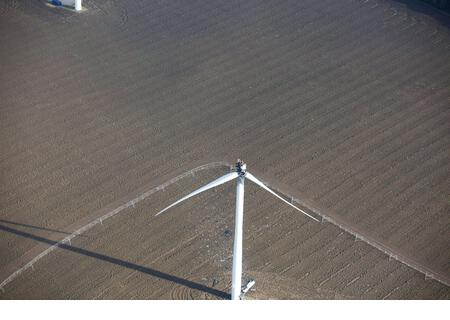faulty: (210, 152, 264, 279)
